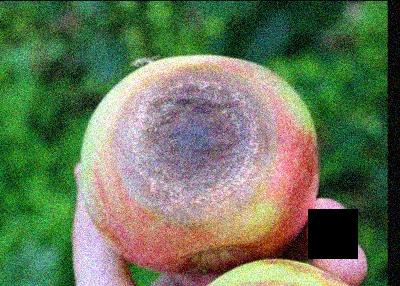rotten apple: (79, 48, 330, 274)
